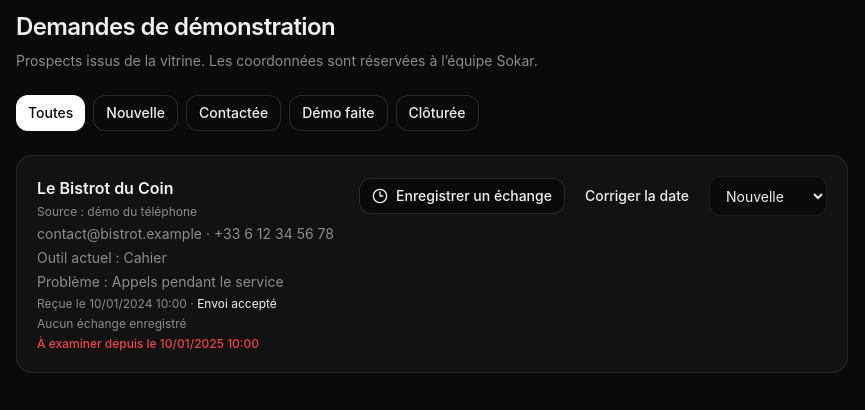
DemoRequestsPage › permet de corriger la date après vérification de la messagerie
Check: the text "À examiner depuis le 10/01/2025 10:00" is shown, box [37,336,259,351]
Click the button "Corriger la date" at (637, 196), box [573,178,701,214]
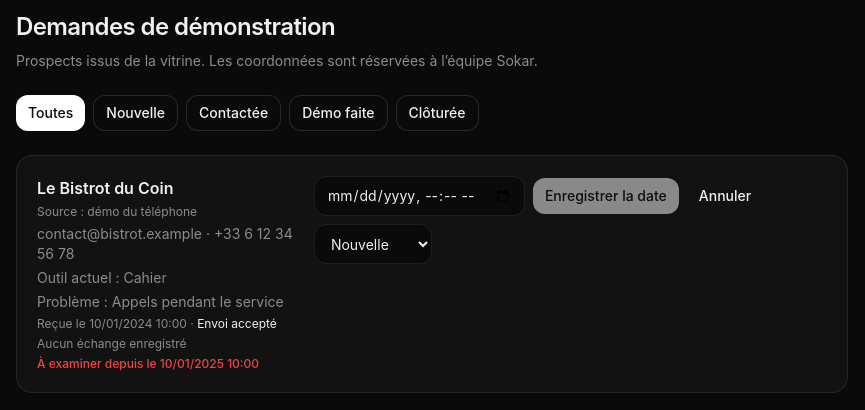
Type "2026-10-14T09:00" into the field named "Date du dernier échange pour Le Bistrot du Coin" at (419, 196), box [314,176,525,216]
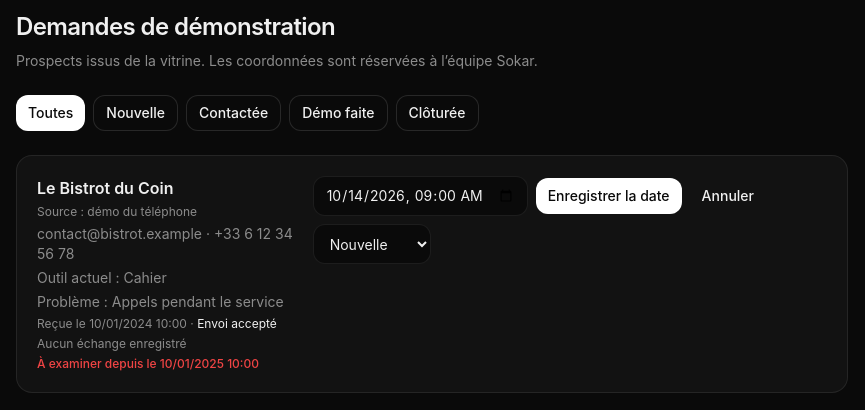
Click the button "Enregistrer la date" at (609, 196), box [536,178,682,214]
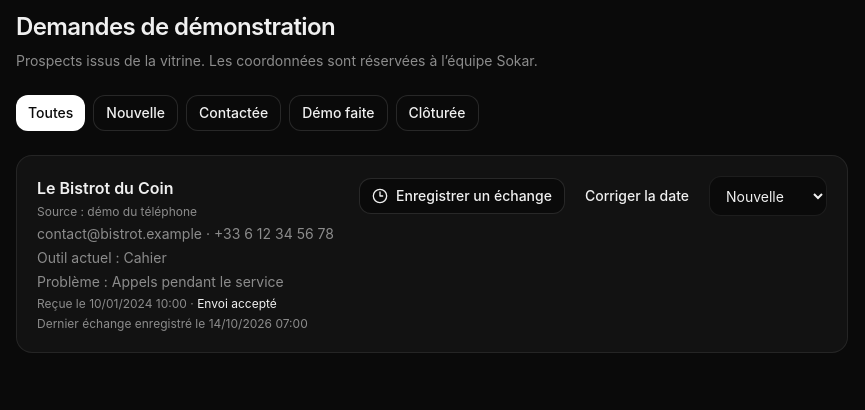
Check: the text "Dernier échange enregistré le 14/10/2026 07:00" is shown, box [37,316,334,332]
